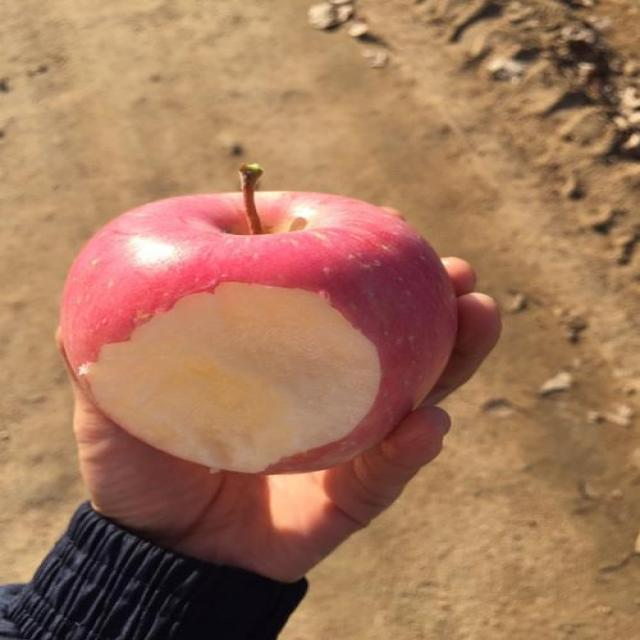Banana: (55, 182, 462, 480)
